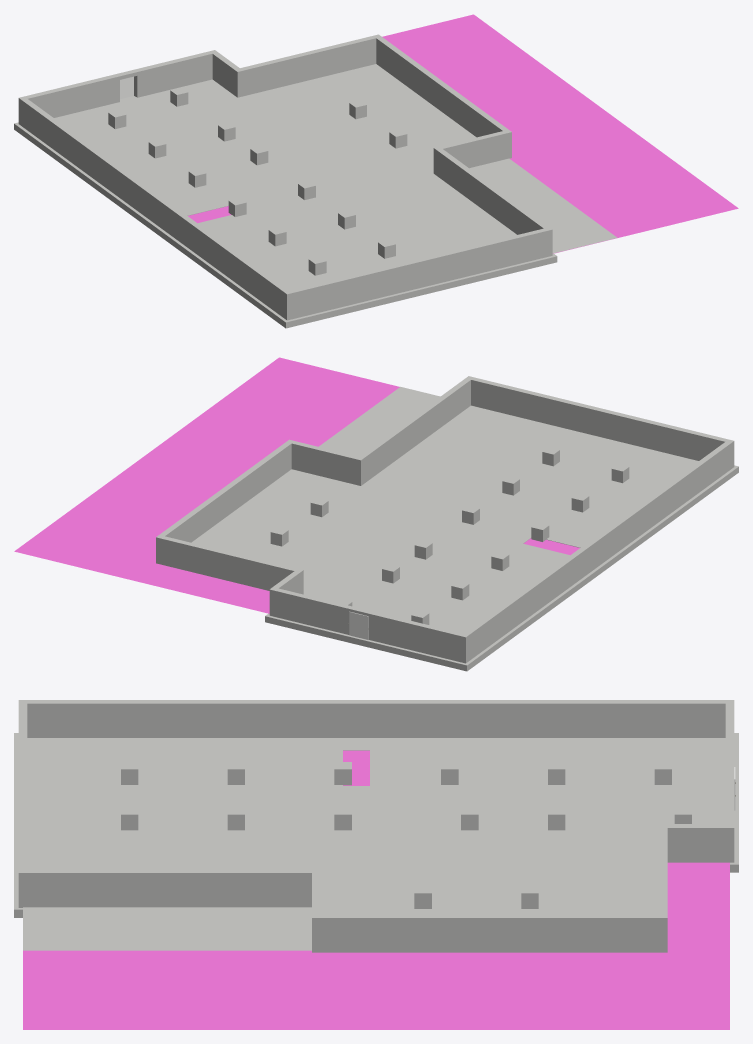
File: house_crawl.glb
3 renders of one model, top to bottom at view 1: azimuth 30°, elevation 25°; view 2: azimuth 150°, elevation 25°; view 3: azimuth 270°, elevation 25°, orthographic. The views are drawn at different scales.
Parts seen in each view (by area): view 1: wall_crawl_stem, room_crawl, floor_crawl_east, floor_crawl_n, col_crawl, floor_crawl, fix_footing_crawl, floor_crawl_ne, floor_crawl_bay; view 2: room_crawl, wall_crawl_stem, floor_crawl_east, floor_crawl_n, floor_crawl, col_crawl, fix_footing_crawl, floor_crawl_ne, floor_crawl_bay; view 3: room_crawl, wall_crawl_stem, floor_crawl_n, floor_crawl_east, floor_crawl, col_crawl, floor_crawl_ne, floor_crawl_bay, fix_footing_crawl, floor_crawl_kitchen_spur.
Part boxes in pixels (<box>): wall_crawl_stem: <box>18,34,552,319</box>; room_crawl: <box>188,14,738,253</box>; floor_crawl_east: <box>241,64,617,253</box>; floor_crawl_n: <box>54,79,347,215</box>; col_crawl: <box>108,87,488,320</box>; floor_crawl: <box>218,199,450,290</box>; fix_footing_crawl: <box>14,96,557,328</box>; floor_crawl_ne: <box>206,184,379,236</box>; floor_crawl_bay: <box>245,176,358,211</box>; room_crawl: <box>14,357,579,613</box>; wall_crawl_stem: <box>156,376,733,663</box>; floor_crawl_east: <box>191,386,536,592</box>; floor_crawl_n: <box>303,516,569,633</box>; floor_crawl: <box>440,422,698,532</box>; col_crawl: <box>270,393,734,624</box>; fix_footing_crawl: <box>265,465,738,671</box>; floor_crawl_ne: <box>420,493,592,545</box>; floor_crawl_bay: <box>409,508,531,543</box>; room_crawl: <box>23,750,729,1029</box>; wall_crawl_stem: <box>18,700,734,952</box>; floor_crawl_n: <box>370,738,725,860</box>; floor_crawl_east: <box>23,860,658,950</box>; floor_crawl: <box>27,738,287,860</box>; col_crawl: <box>18,700,691,908</box>; floor_crawl_ne: <box>287,760,342,860</box>; floor_crawl_bay: <box>342,786,370,860</box>; fix_footing_crawl: <box>14,733,738,917</box>; floor_crawl_kitchen_spur: <box>287,738,342,760</box>.
Bounding box in the file's own units: 16.05 × 1.08 × 16.56.
